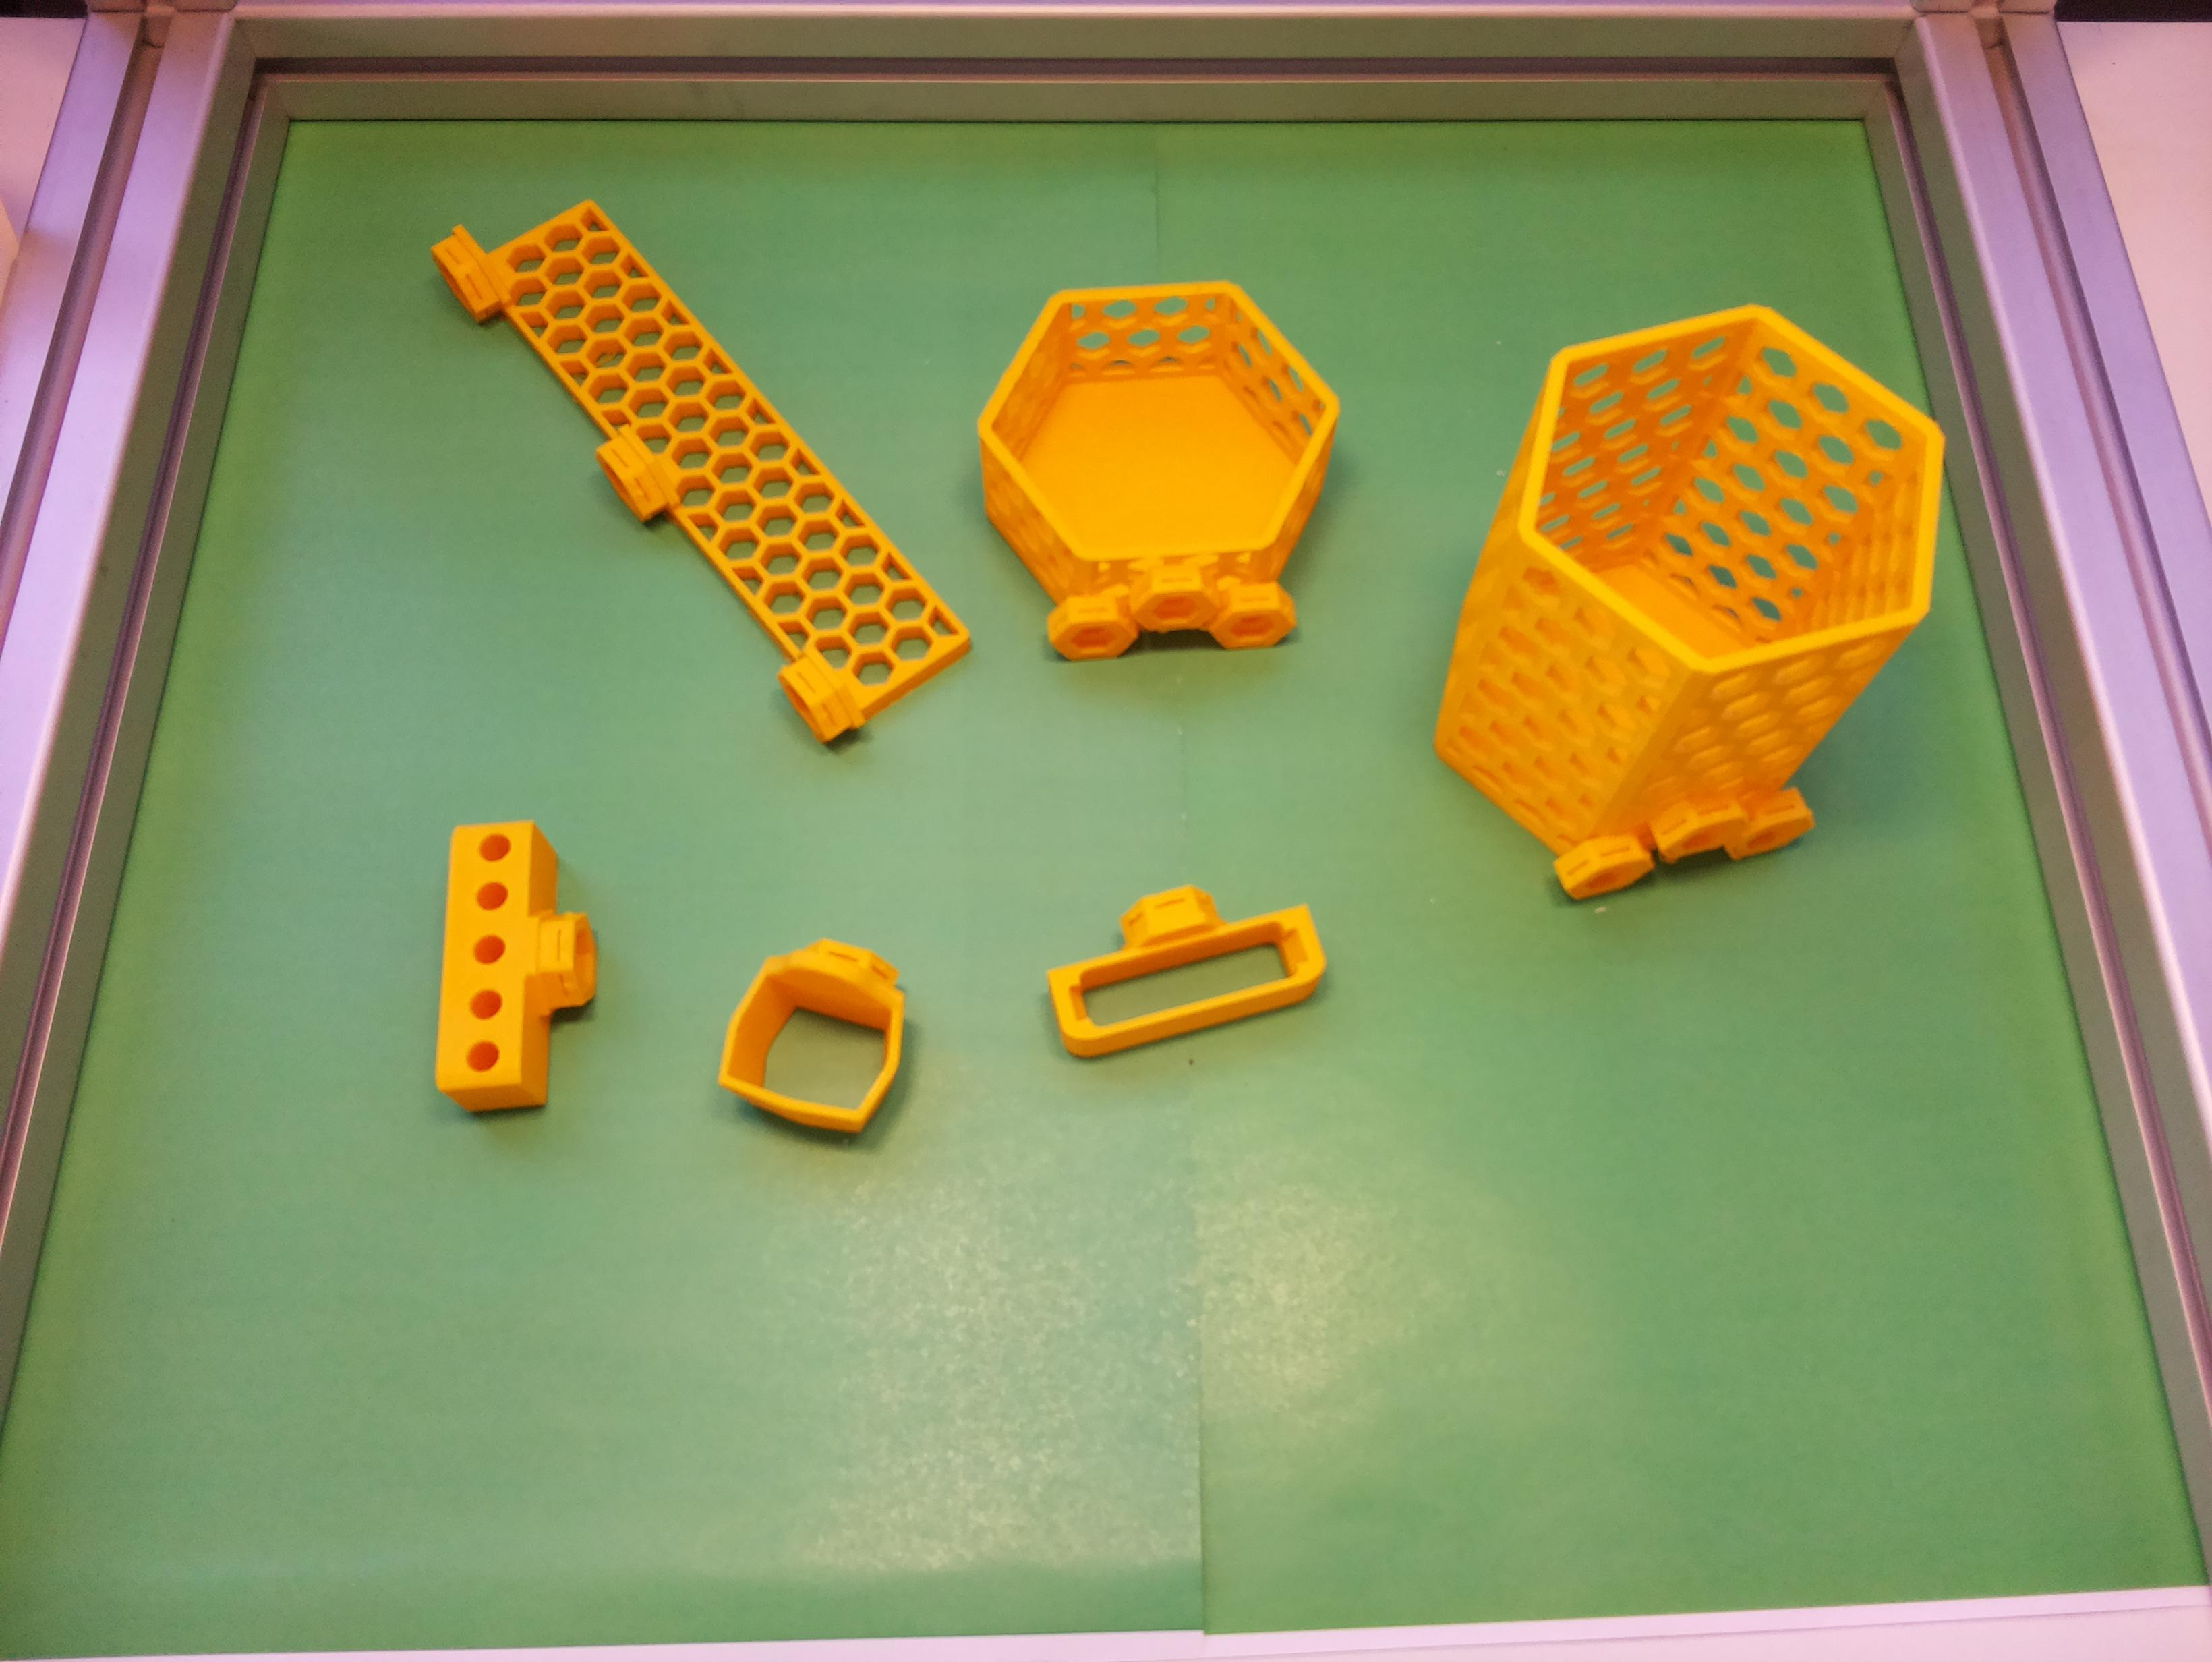bit_holder: (433, 817, 606, 1119)
bottle_holder: (969, 272, 1355, 663)
cup_holder: (1381, 244, 2008, 979)
cutter_holder: (1032, 854, 1336, 1067)
scissor_holder: (705, 913, 932, 1149)
tool_holder: (421, 138, 978, 759)
